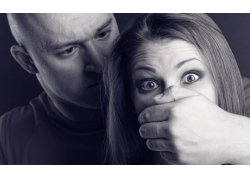face: (36, 2, 124, 106), (128, 42, 219, 137)
